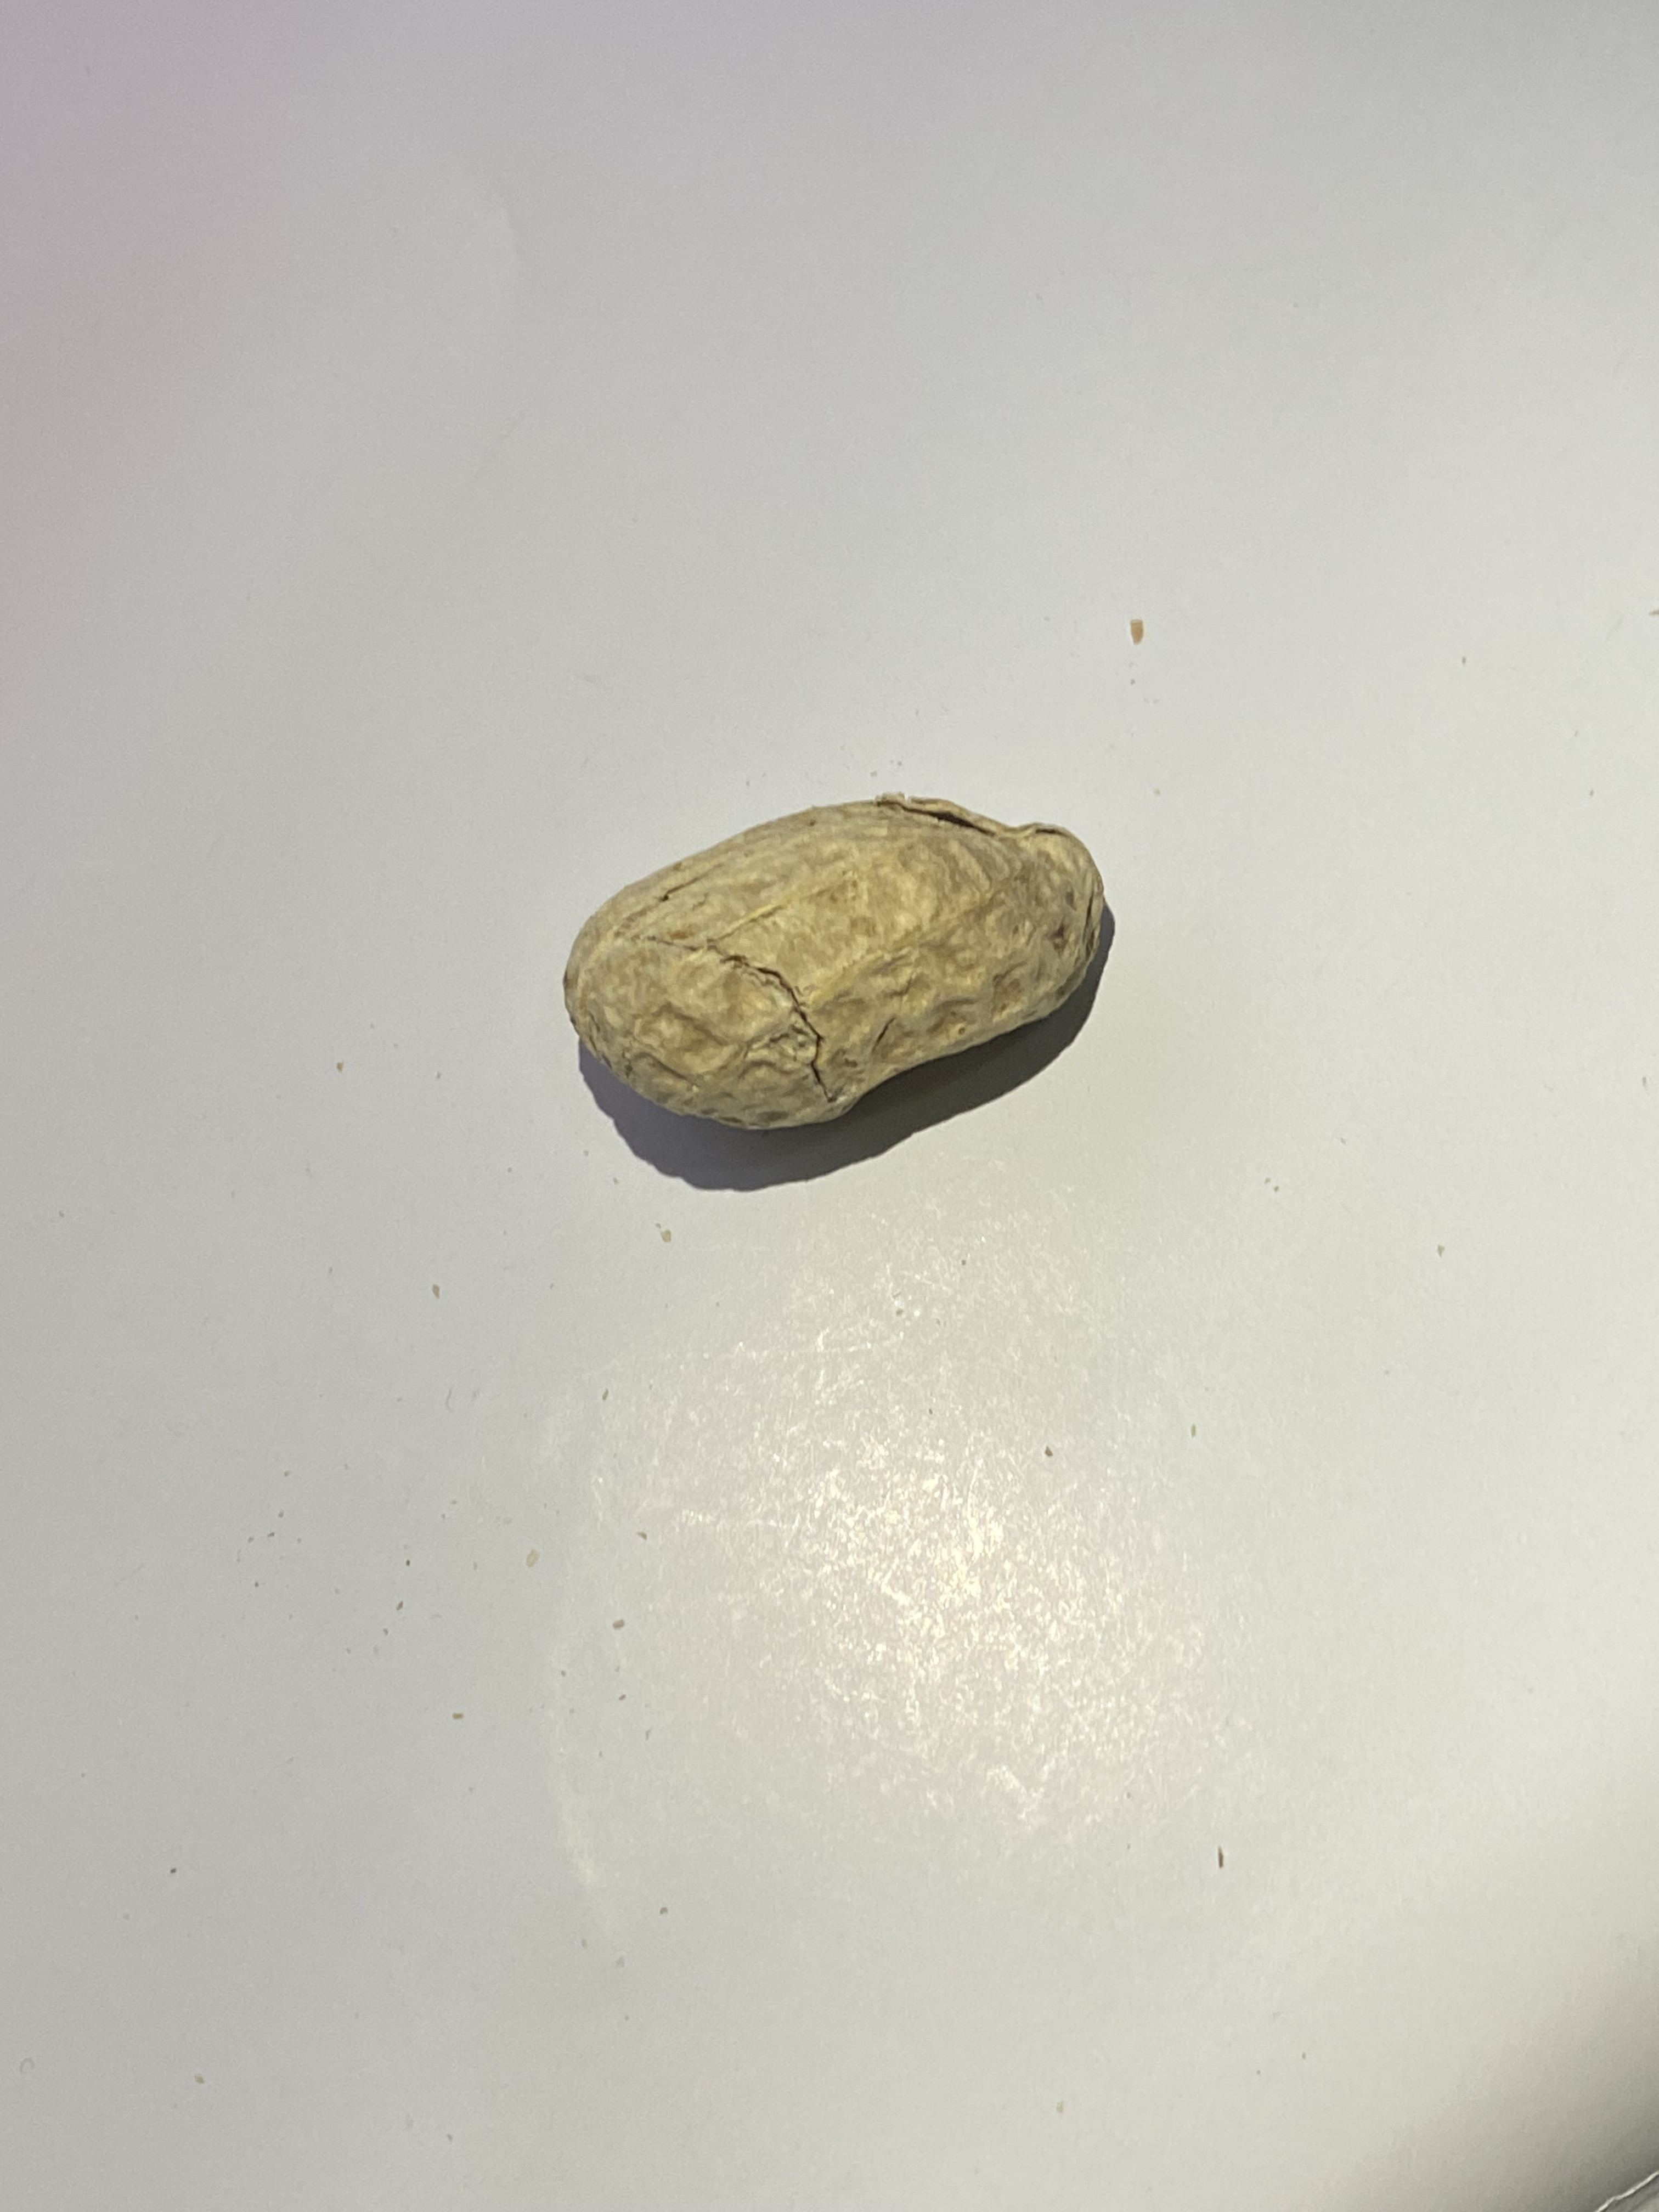kacang1: (538, 798, 1150, 1130)
